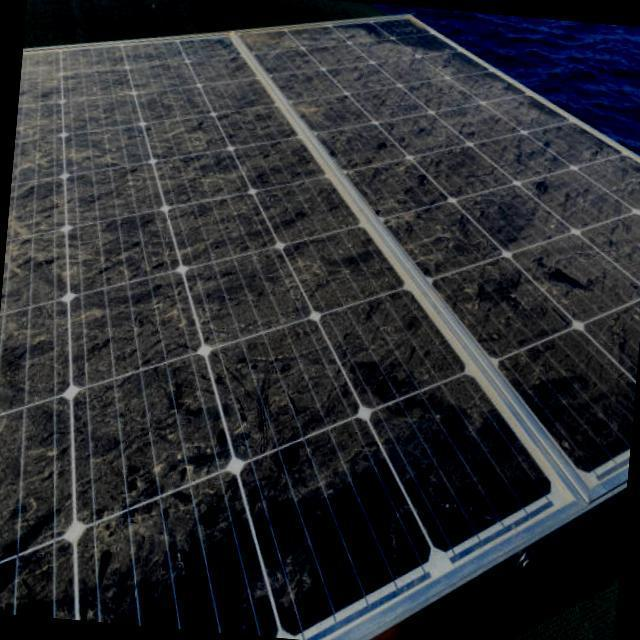faulty: (2, 6, 640, 640)
